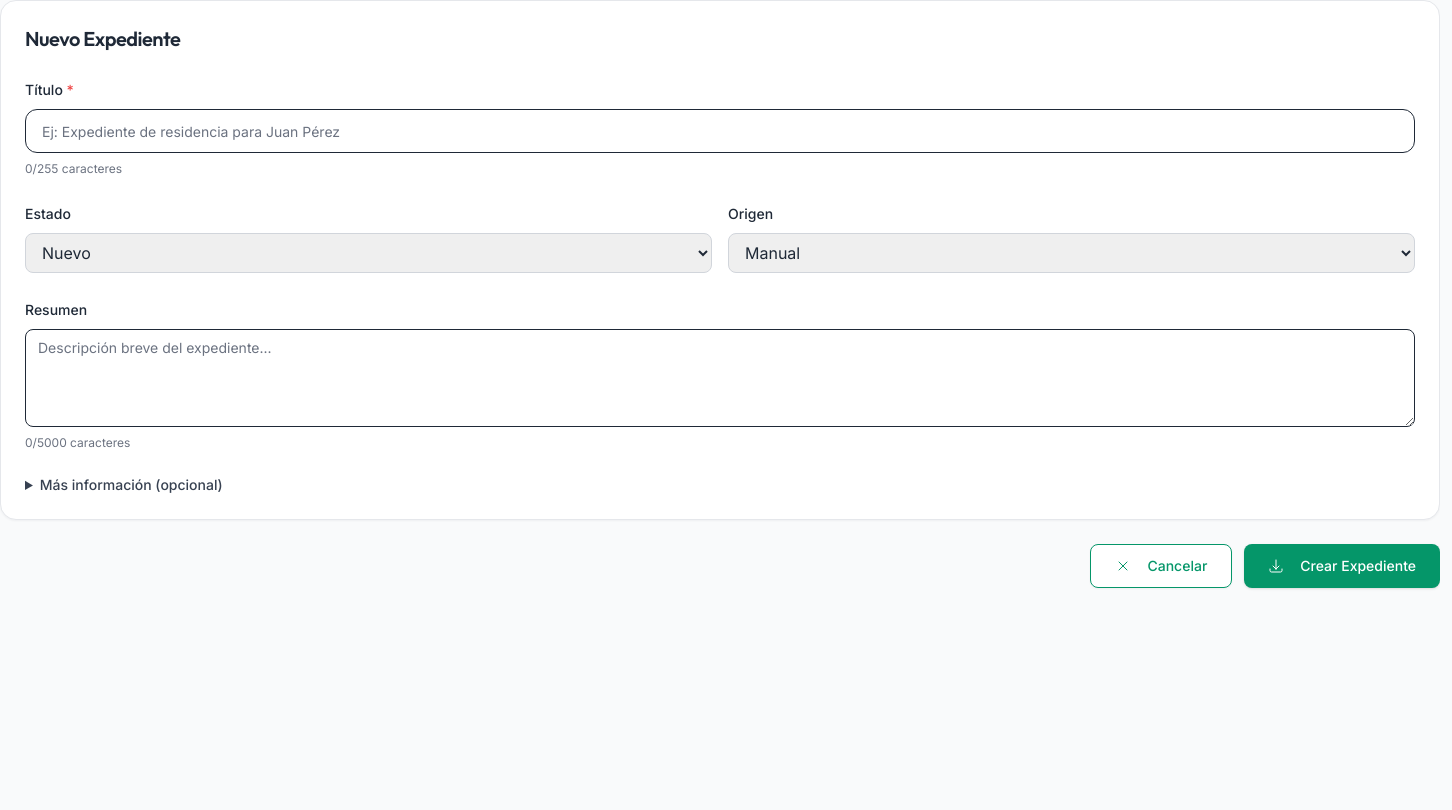
Test case: ExpedienteForm › valida que el título tiene mínimo 10 caracteres
Type "Corto" into the field labelled "Título *" at point(720, 131), box x1=25 y1=109 x2=1415 y2=153
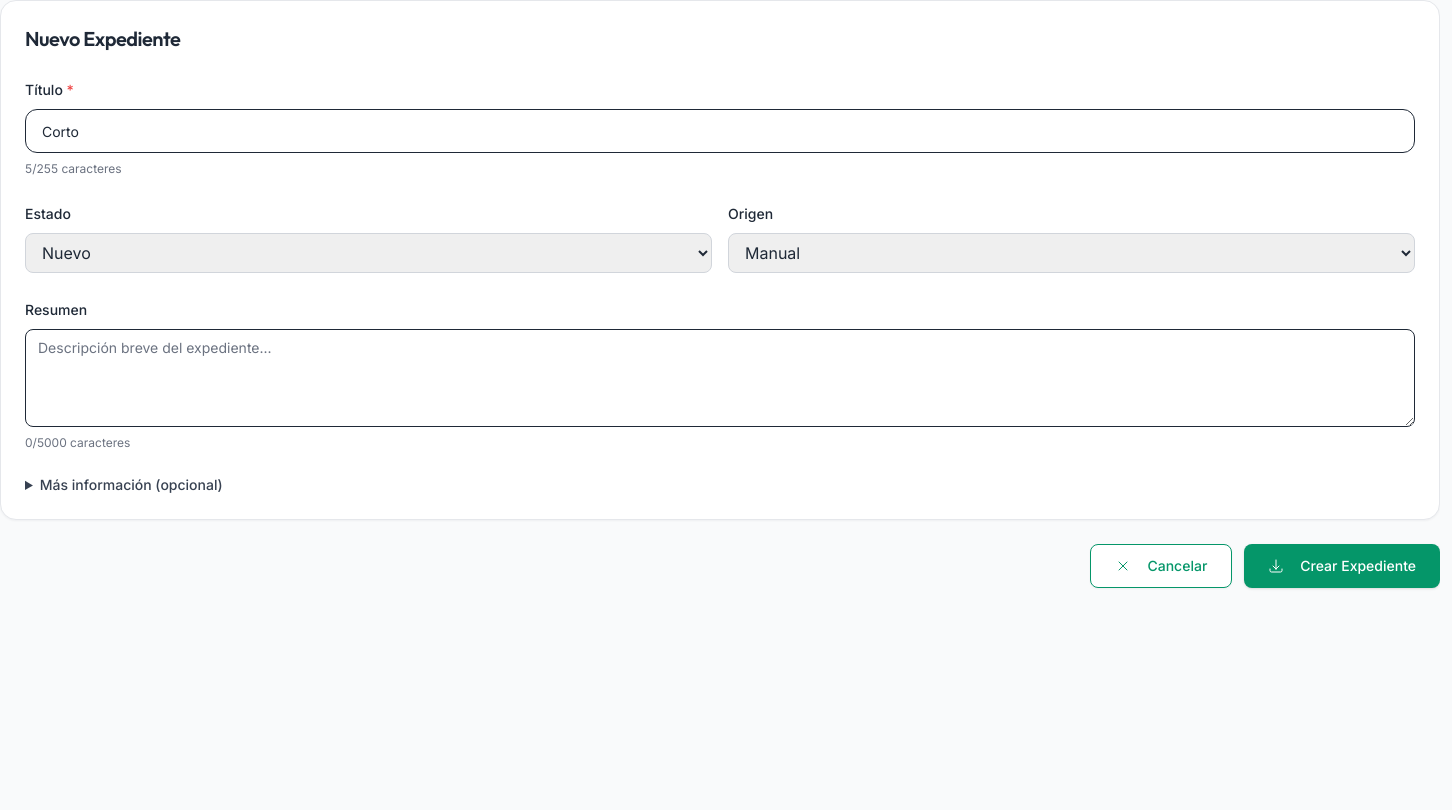
Click the button "Crear Expediente" at point(1342, 566), box x1=1244 y1=544 x2=1440 y2=588
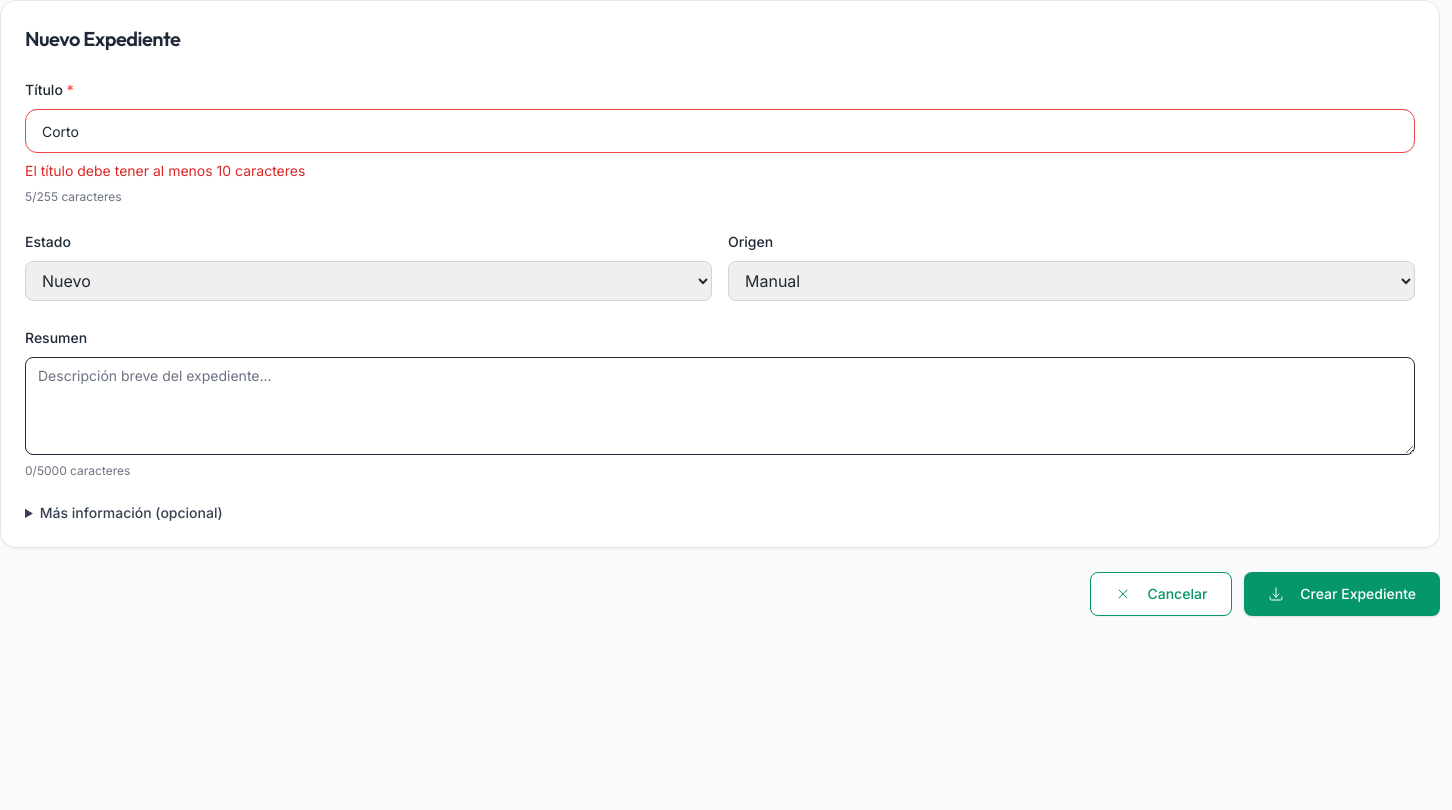
Expected: the text "El título debe tener al menos 10 caracteres" is shown, x1=25 y1=162 x2=305 y2=179
